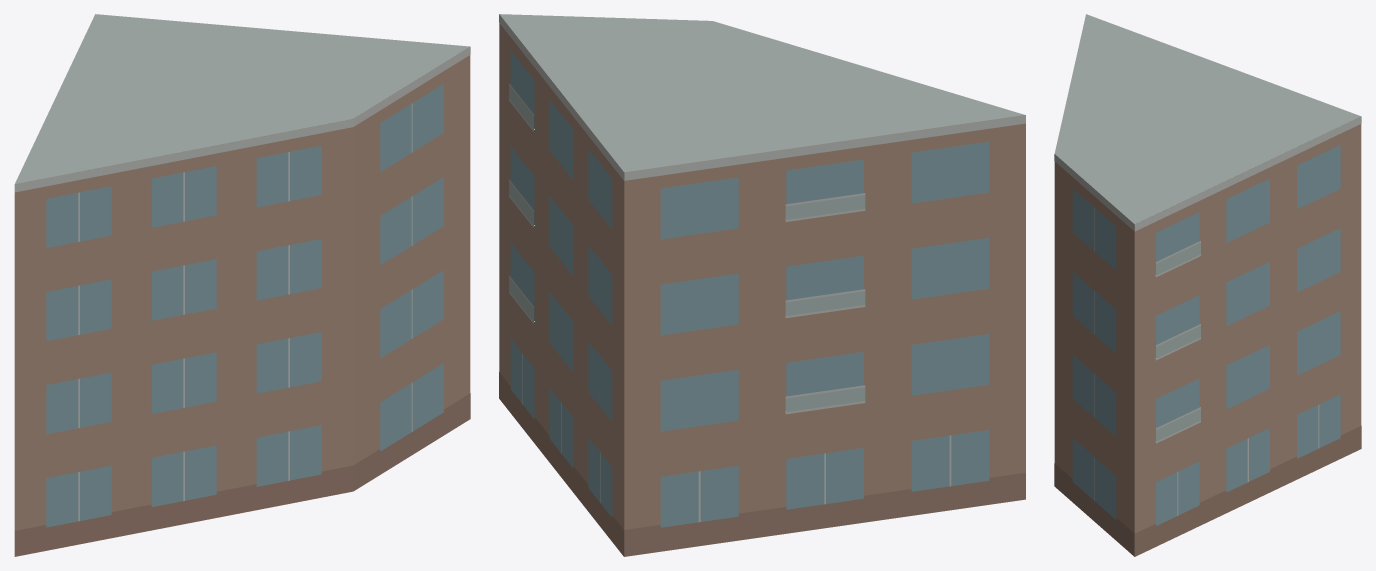
Rendered from survey-upis-32824947.glb.
The picture shows the model from 3 angles, left to right: view 1: azimuth 30°, elevation 25°; view 2: azimuth 150°, elevation 25°; view 3: azimuth 270°, elevation 25°; orthographic projection. The views are drawn at different scales.
Parts seen in each view (by area): view 1: survey-upis-32824947.tmp; view 2: survey-upis-32824947.tmp; view 3: survey-upis-32824947.tmp.
Part boxes in pixels (x1,y1,x2,y2): survey-upis-32824947.tmp: [14, 14, 470, 556]; survey-upis-32824947.tmp: [499, 14, 1025, 556]; survey-upis-32824947.tmp: [1054, 14, 1361, 556].
Bounding box in the file's own units: 15.07 × 11.1 × 9.3.
